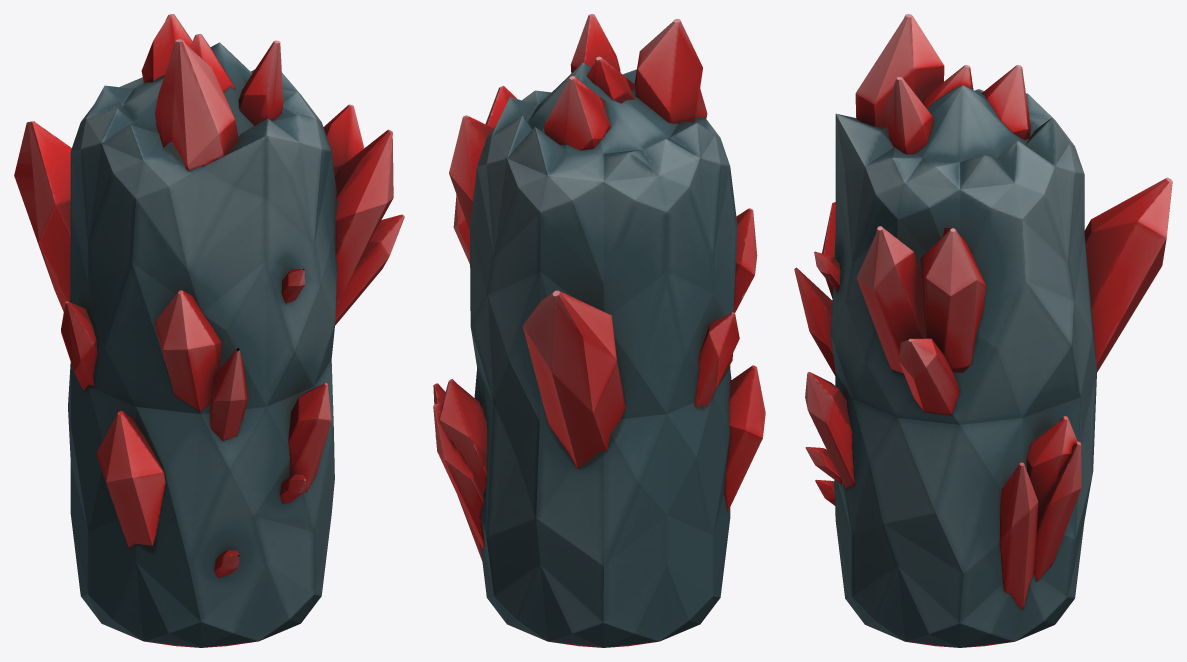
The model's file is Ruby.fbx.
The picture shows the model from 3 angles, left to right: view 1: azimuth 30°, elevation 25°; view 2: azimuth 150°, elevation 25°; view 3: azimuth 270°, elevation 25°; orthographic projection. The views are drawn at different scales.
Parts seen in each view (by area): view 1: Ruby; view 2: Ruby; view 3: Ruby.
Boxes of the visible parts, x1=… form: Ruby: x1=14, y1=14, x2=404, y2=647; Ruby: x1=433, y1=14, x2=765, y2=647; Ruby: x1=794, y1=14, x2=1172, y2=647.
Size of the model in its own units: 281 by 511 by 304.
Materials: 1 (1 with a texture image).
